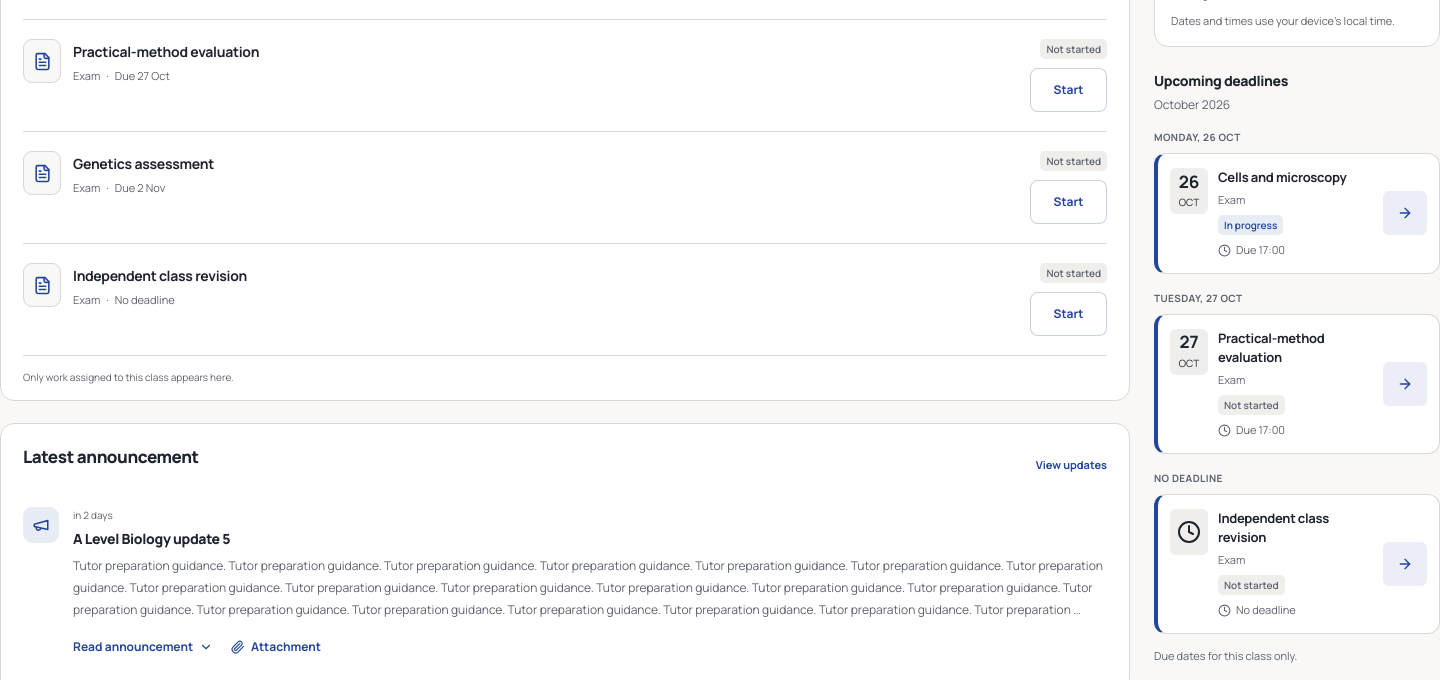
Test: Class Details student workspace › retains every announcement beyond the former three-item preview, with full expandable text and attachments
(page scrolled)
Check: the heading "A Level Biology update 5" is shown, box top-left (73, 529), bottom-right (230, 548)
What coordinates should you click on to do the following:
click the button "View updates"
I would click on:
 (1067, 466)
Its box is top-left (1028, 444), bottom-right (1107, 488).
(page scrolled)
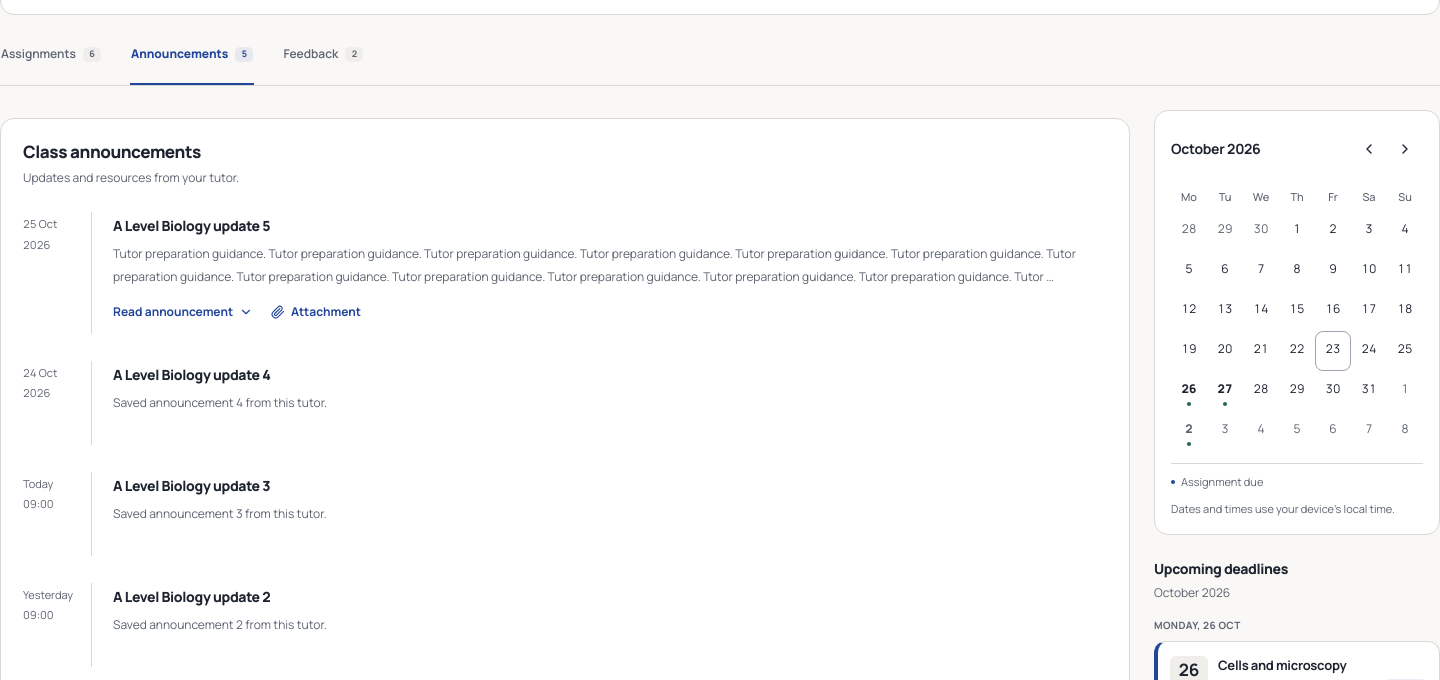
What coordinates should you click on to do the following:
click the button "Read announcement"
I would click on:
 (183, 312)
Its box is top-left (113, 290), bottom-right (253, 334).
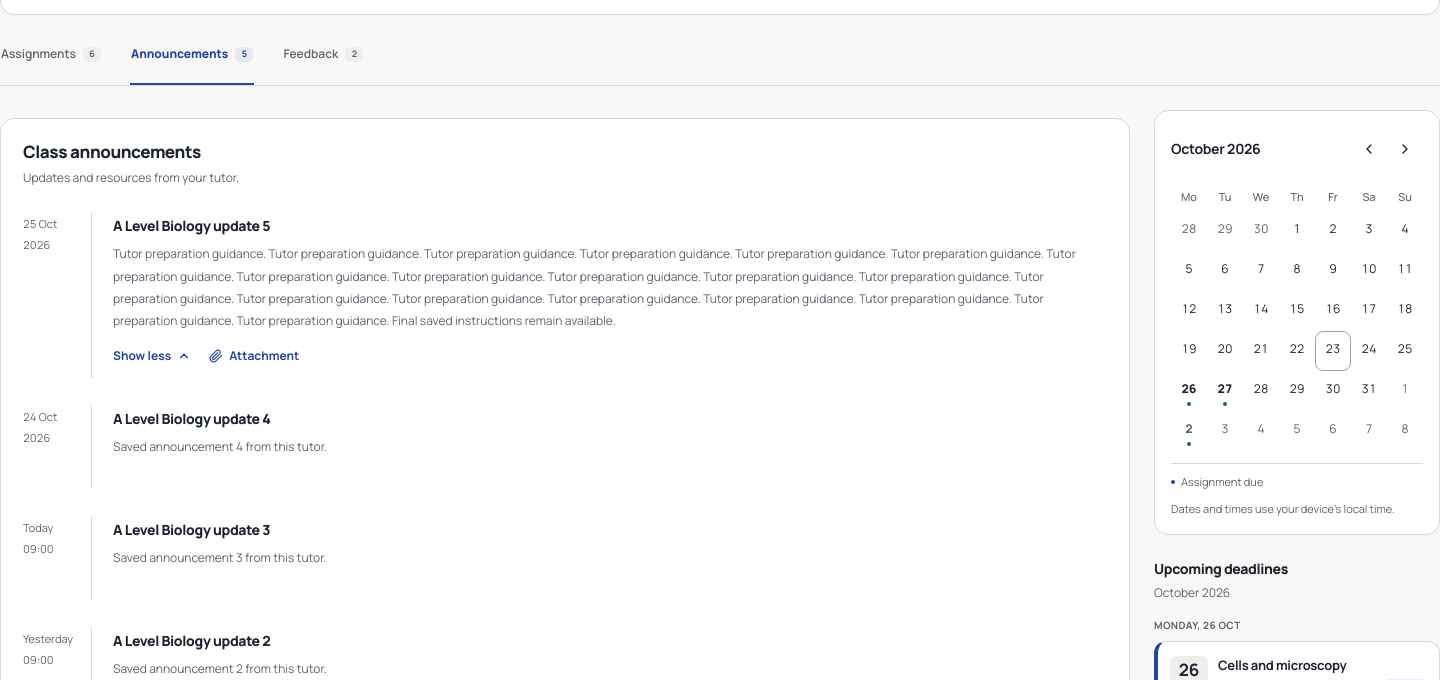
Check: the button "Show less" is expanded, box top-left (113, 334), bottom-right (191, 378)
